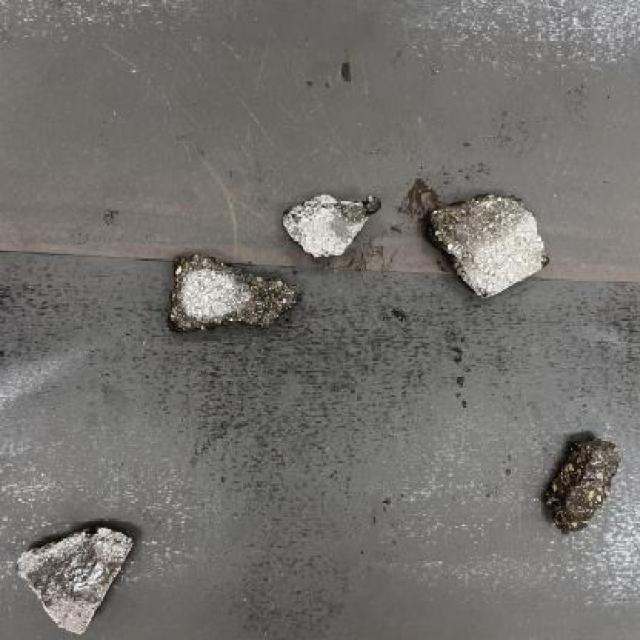Road Debris: (542, 432, 624, 531), (430, 194, 527, 251), (228, 275, 298, 340), (31, 548, 114, 602), (326, 195, 379, 240)
